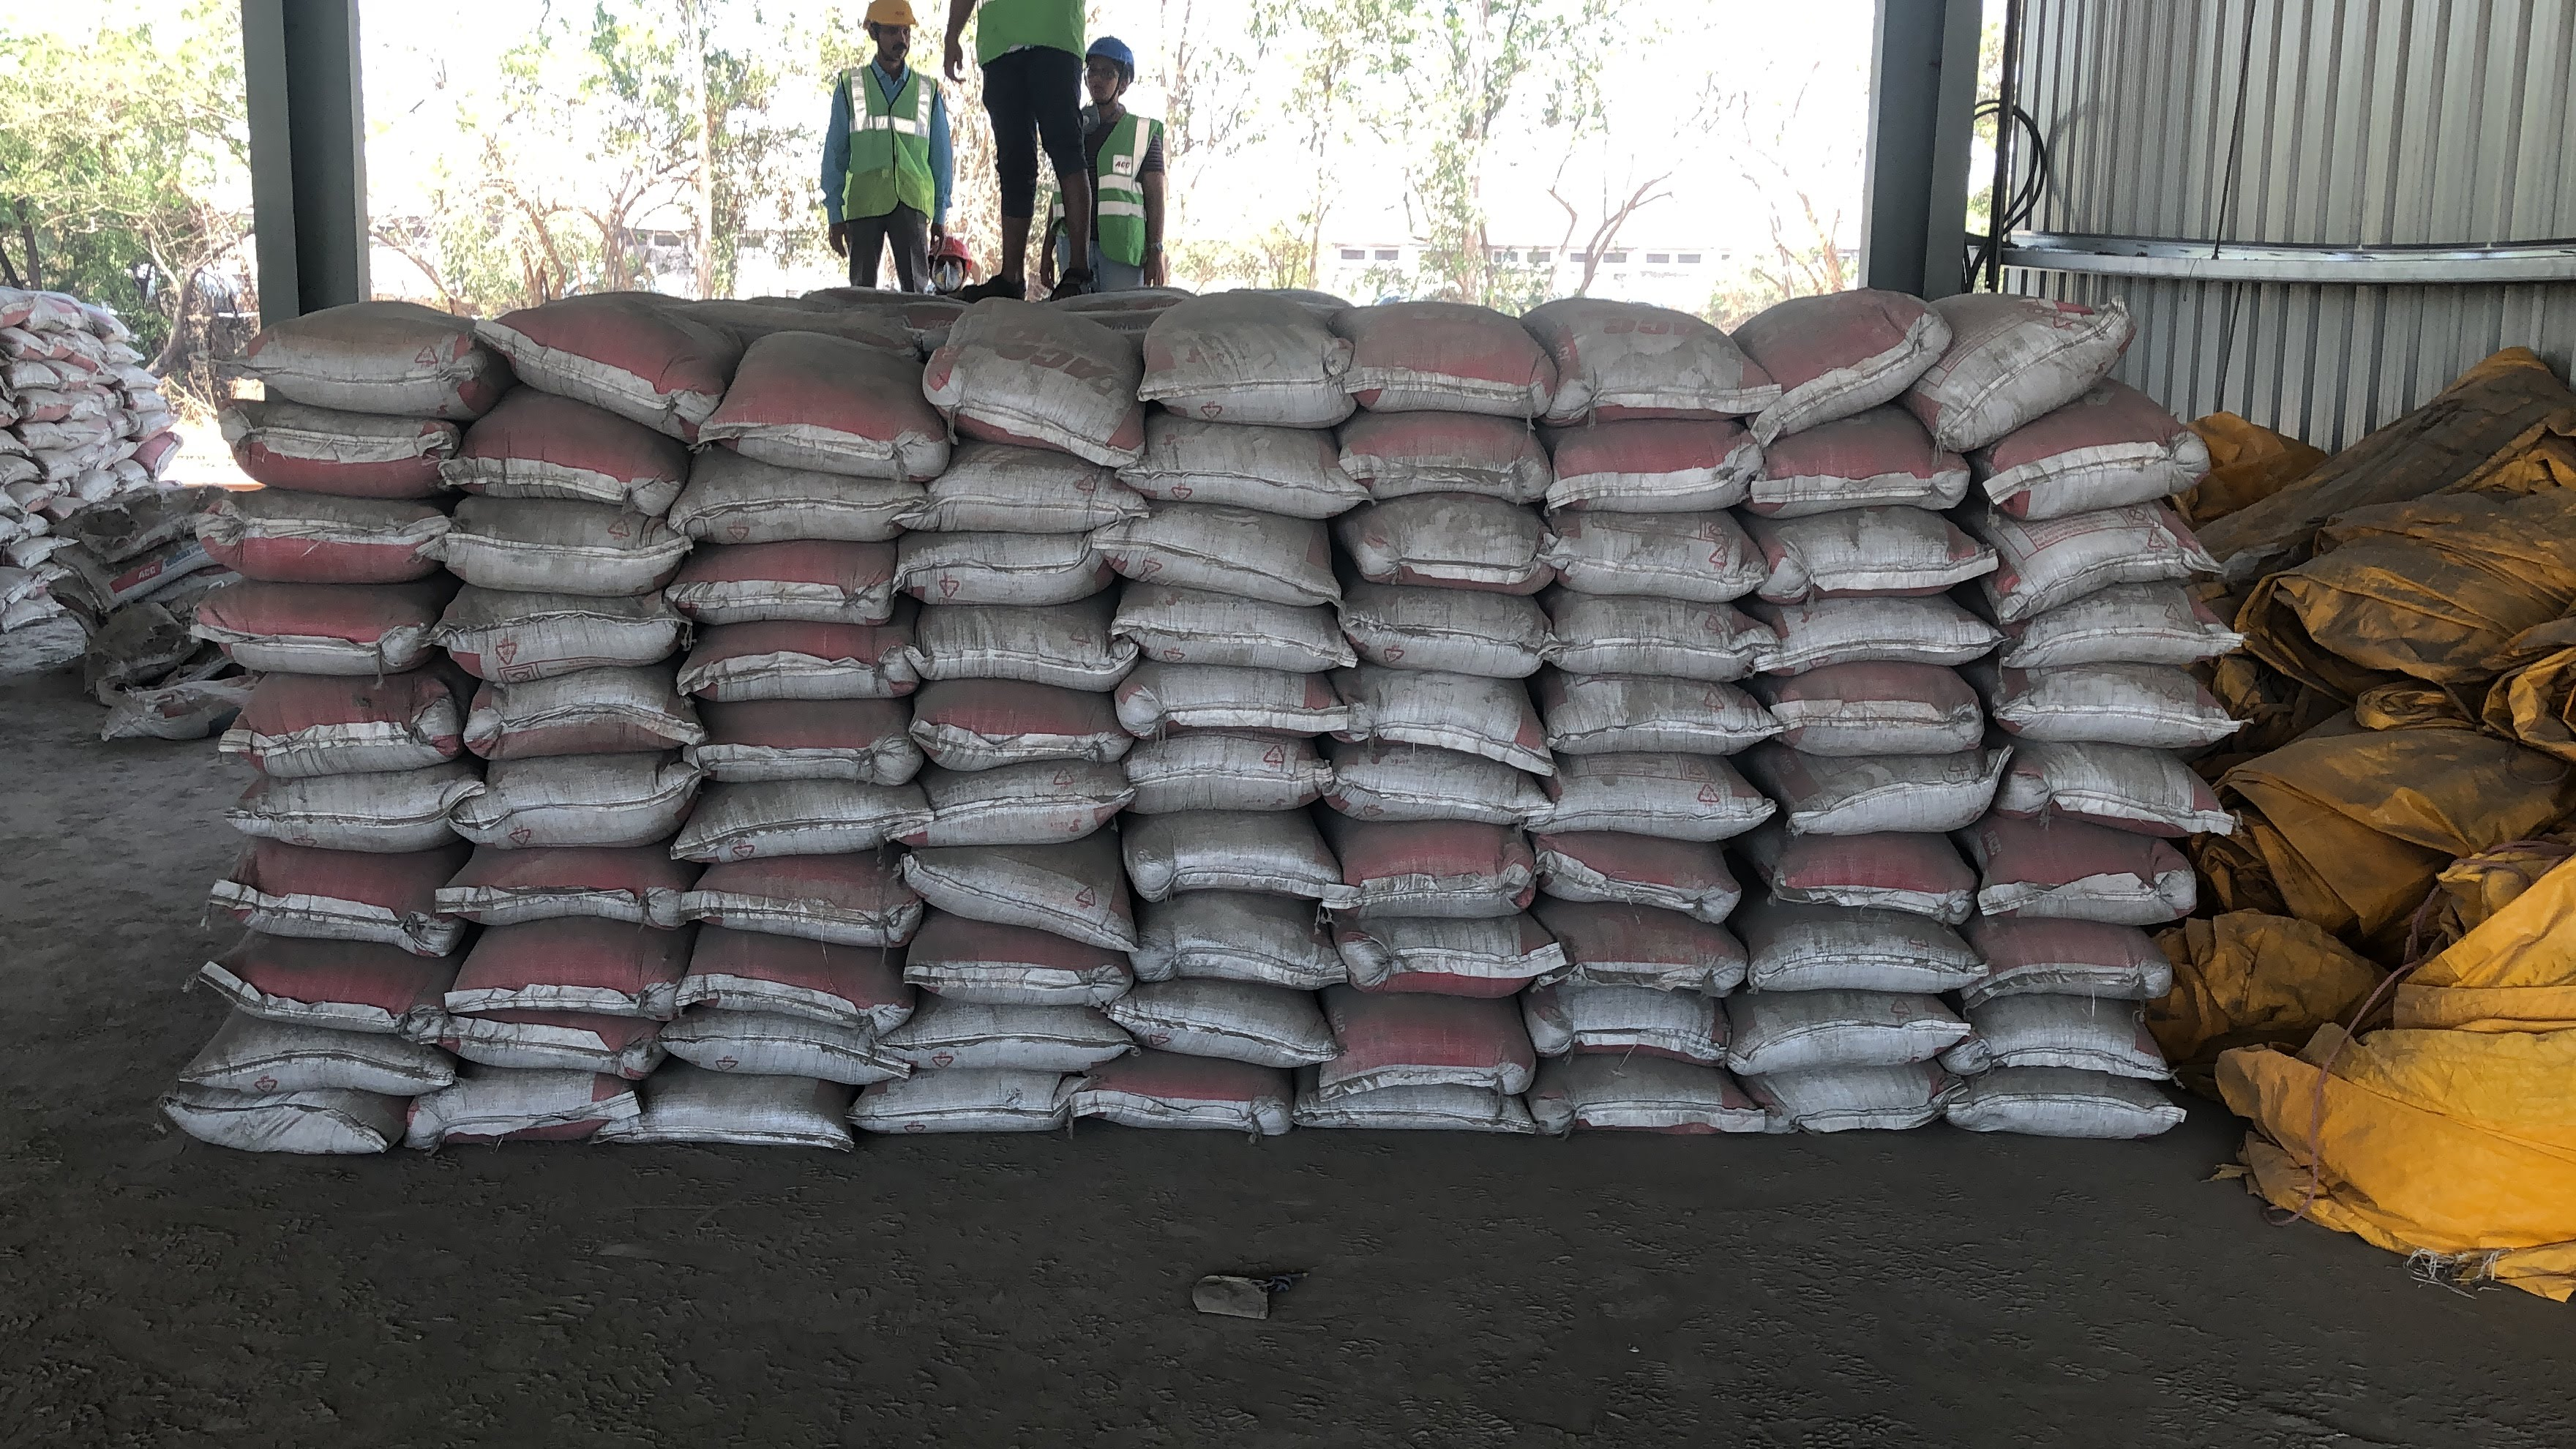cement bag: (699, 329, 957, 487), (472, 292, 715, 449), (1904, 292, 2135, 451), (929, 295, 1146, 458), (1966, 373, 2219, 511), (228, 299, 497, 421), (1513, 299, 1782, 421), (449, 386, 688, 520), (1721, 285, 1955, 418), (209, 840, 465, 957), (1138, 297, 1355, 432), (209, 389, 460, 502), (193, 920, 444, 1033), (1962, 810, 2203, 927), (681, 918, 920, 1035), (191, 485, 449, 593), (441, 488, 690, 600), (177, 1003, 456, 1100), (216, 672, 465, 780), (433, 579, 686, 685), (180, 579, 435, 681), (899, 847, 1141, 954), (1990, 738, 2242, 839), (1737, 508, 1999, 603), (1306, 987, 1541, 1093), (1111, 423, 1366, 520), (1093, 518, 1352, 614), (1983, 665, 2245, 759), (1760, 747, 2017, 842), (1336, 490, 1562, 598), (1966, 501, 2215, 598), (1343, 308, 1555, 421), (1539, 504, 1769, 609), (1539, 669, 1783, 766), (448, 752, 701, 846), (1348, 669, 1568, 777), (667, 775, 929, 865), (679, 856, 920, 954), (1739, 908, 1992, 1000), (1532, 895, 1750, 1001), (1111, 893, 1348, 991), (458, 672, 713, 763), (2003, 580, 2252, 672), (1530, 750, 1778, 842), (441, 927, 683, 1021), (665, 458, 922, 547), (1748, 416, 1983, 511), (1529, 830, 1734, 938), (1539, 419, 1766, 517), (1721, 982, 1966, 1070), (1334, 580, 1555, 678), (1332, 817, 1541, 920), (662, 538, 899, 628), (1106, 980, 1343, 1070), (886, 759, 1138, 844), (902, 449, 1146, 536), (902, 916, 1132, 1008), (1336, 405, 1557, 501), (435, 846, 688, 929), (908, 678, 1139, 768), (1109, 587, 1359, 671), (1750, 596, 2005, 678), (1760, 667, 1992, 755), (674, 623, 925, 704), (221, 773, 478, 853), (1325, 741, 1555, 830), (1116, 823, 1350, 909), (1760, 835, 1980, 927), (683, 704, 920, 789), (886, 525, 1115, 612), (1955, 915, 2178, 1003), (1332, 920, 1569, 1003), (651, 1012, 909, 1088), (915, 607, 1141, 694), (623, 1074, 863, 1155), (1730, 1054, 1959, 1139), (426, 1005, 663, 1086), (1957, 1000, 2187, 1081), (398, 1072, 632, 1152), (1518, 980, 1732, 1067), (844, 1067, 1099, 1139), (154, 1085, 396, 1161), (1109, 738, 1336, 819), (878, 1005, 1143, 1074), (1939, 1072, 2190, 1145), (1548, 598, 1776, 678), (1525, 1065, 1766, 1139), (1111, 669, 1345, 745), (1070, 1065, 1299, 1138), (1284, 1072, 1537, 1136)
